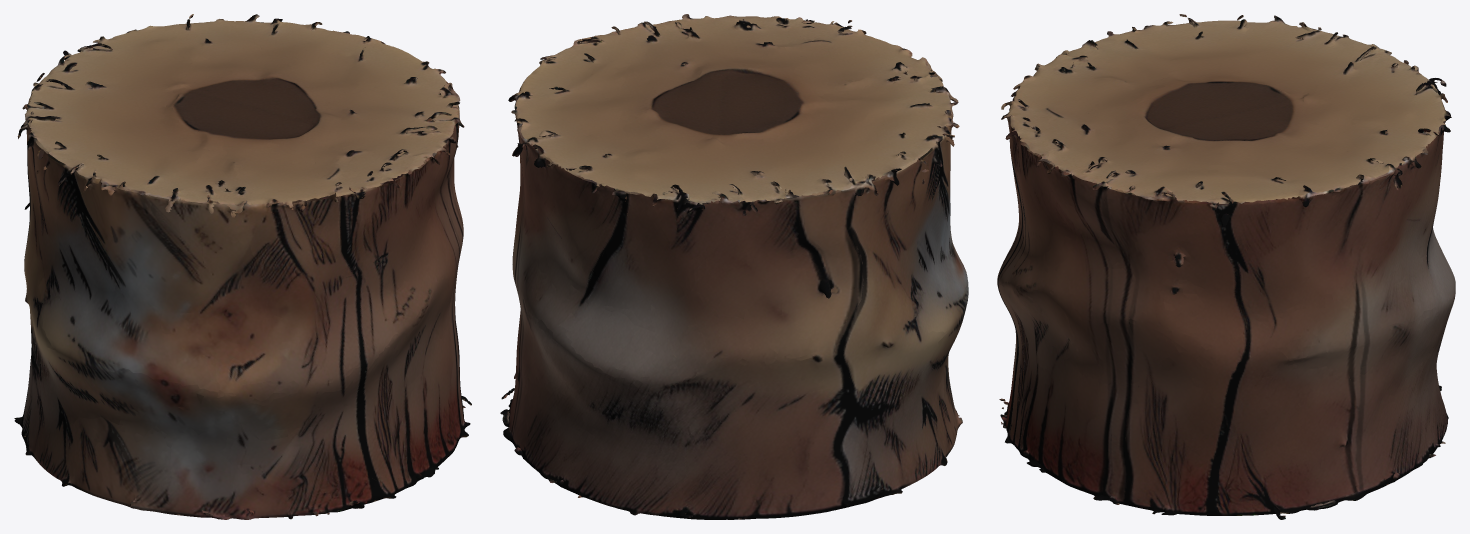
File: catalog-material-6.glb
The picture shows the model from 3 angles, left to right: view 1: azimuth 30°, elevation 25°; view 2: azimuth 150°, elevation 25°; view 3: azimuth 270°, elevation 25°; orthographic projection. The views are drawn at different scales.
Visible parts, largest first — view 1: tmpdf8oo_pl.ply; view 2: tmpdf8oo_pl.ply; view 3: tmpdf8oo_pl.ply.
Part boxes in pixels (x1,y1,x2,y2): tmpdf8oo_pl.ply: [14, 14, 471, 519]; tmpdf8oo_pl.ply: [500, 14, 968, 519]; tmpdf8oo_pl.ply: [997, 14, 1455, 519].
Bounding box in the file's own units: 1.95 × 1.51 × 1.95.
Materials: 1 (1 with a texture image).
